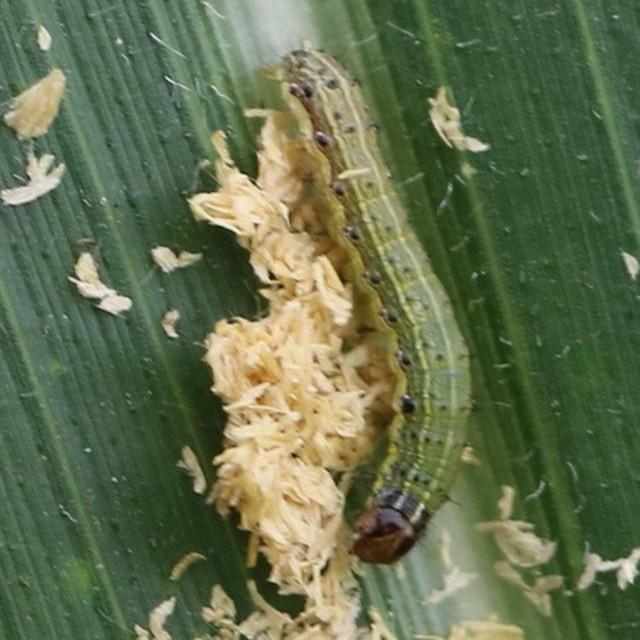gusano_cogollero: (262, 35, 478, 571)
